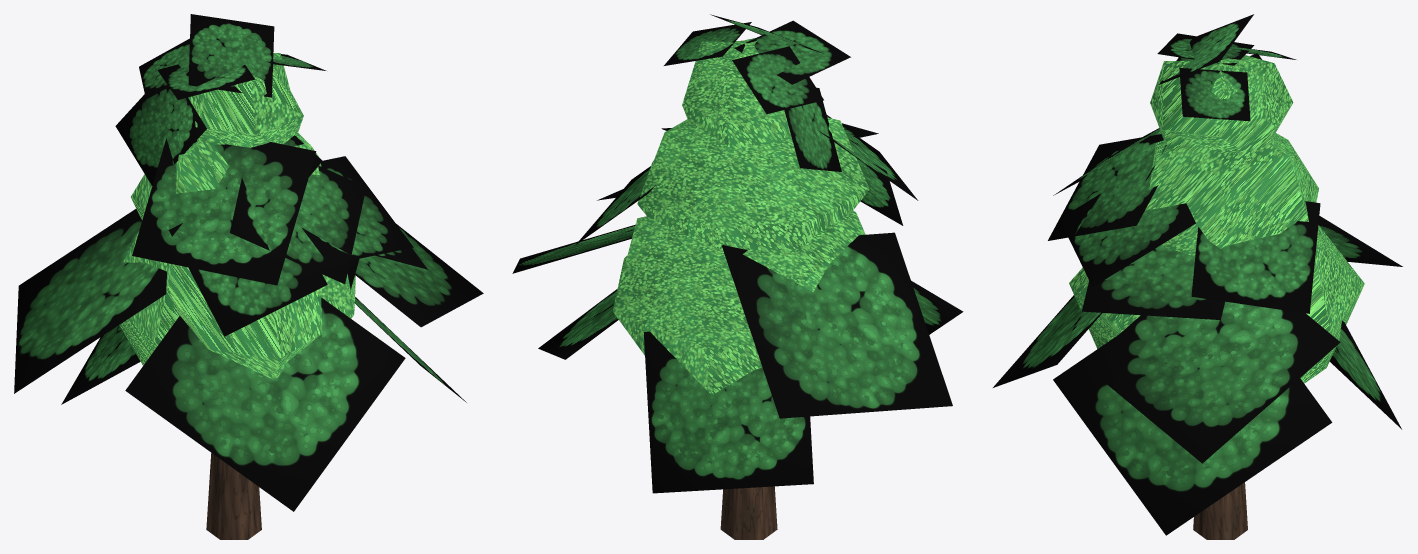
Rendered from tree_forest.gltf.
3 views of the same model, side by side, from view 1: azimuth 30°, elevation 25°; view 2: azimuth 150°, elevation 25°; view 3: azimuth 270°, elevation 25° (orthographic). The views are drawn at different scales.
Parts seen in each view (by area): view 1: Crown, Trunk; view 2: Crown, Trunk; view 3: Crown, Trunk.
Boxes of the visible parts, box(x1,y1,x2,y2) form: Crown: box(14, 14, 483, 511); Trunk: box(206, 453, 261, 539); Crown: box(512, 14, 963, 493); Trunk: box(720, 486, 777, 539); Crown: box(993, 14, 1402, 535); Trunk: box(1193, 482, 1247, 539).
Bounding box in the file's own units: 8.41 × 9.1 × 6.74.
Materials: 3 (3 with a texture image).
